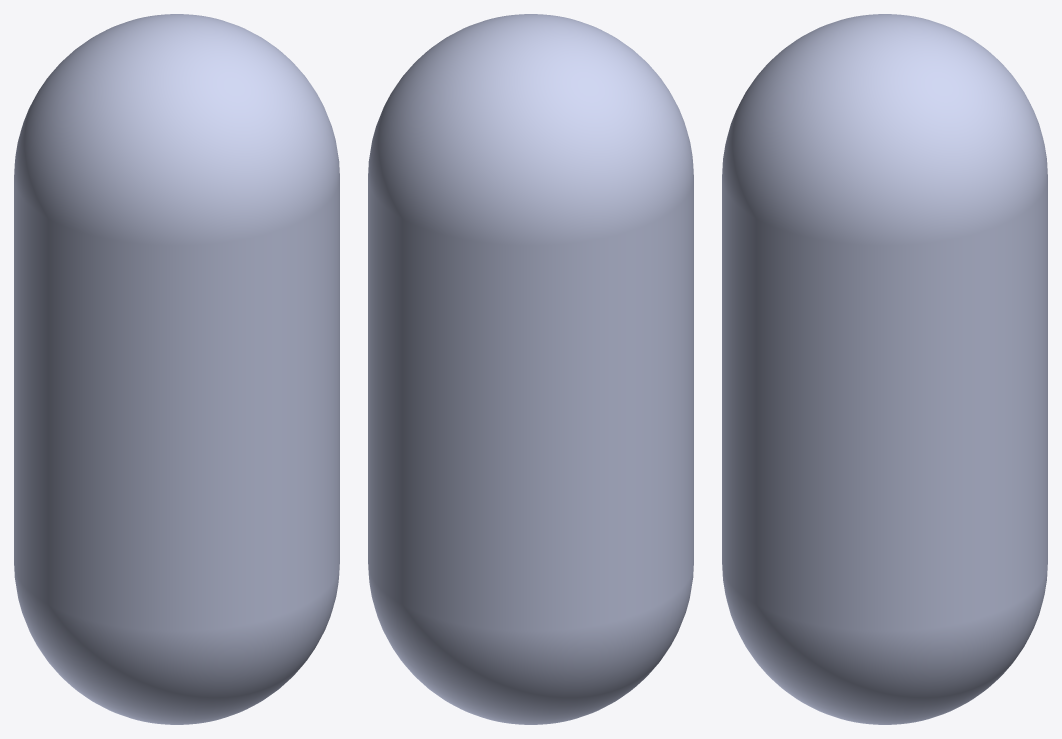
The model's file is bean2.glb.
3 views of the same model, side by side, from view 1: azimuth 30°, elevation 25°; view 2: azimuth 150°, elevation 25°; view 3: azimuth 270°, elevation 25° (orthographic).
Visible parts, largest first — view 1: bean2.glb; view 2: bean2.glb; view 3: bean2.glb.
Boxes of the visible parts, <box> form: bean2.glb: <box>14,14,339,724</box>; bean2.glb: <box>368,14,693,724</box>; bean2.glb: <box>722,14,1047,724</box>.
Size of the model in its own units: 1.58 by 3.65 by 1.58.
